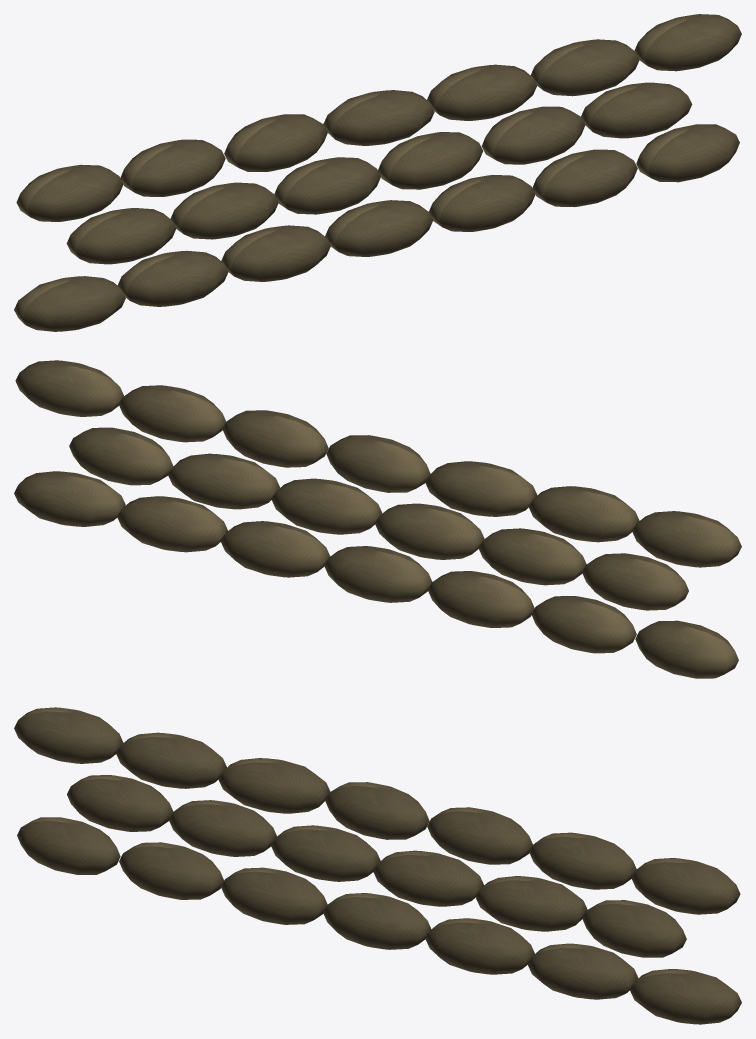
File: sandbags.glb
3 renders of one model, top to bottom at view 1: azimuth 30°, elevation 25°; view 2: azimuth 150°, elevation 25°; view 3: azimuth 330°, elevation 25°, orthographic.
Parts seen in each view (by area): view 1: Bag_0_0, Bag_1_5, Bag_2_3, Bag_0_1, Bag_1_0, Bag_2_4, Bag_0_2, Bag_2_5, Bag_1_1, Bag_0_3, Bag_2_6, Bag_1_2 (+8 smaller); view 2: Bag_1_4, Bag_0_6, Bag_2_2, Bag_1_3, Bag_0_5, Bag_2_1, Bag_2_0, Bag_0_4, Bag_1_2, Bag_2_6, Bag_1_1, Bag_0_3 (+8 smaller); view 3: Bag_0_6, Bag_1_4, Bag_2_2, Bag_2_1, Bag_0_5, Bag_1_3, Bag_0_4, Bag_1_2, Bag_2_0, Bag_2_6, Bag_1_1, Bag_0_3 (+8 smaller).
Boxes of the visible parts, x1,y1,x2,y2 form: Bag_0_0: [14, 276, 125, 331]; Bag_1_5: [581, 82, 692, 138]; Bag_2_3: [323, 90, 434, 145]; Bag_0_1: [117, 250, 228, 306]; Bag_1_0: [66, 208, 176, 264]; Bag_2_4: [427, 64, 536, 120]; Bag_0_2: [221, 225, 330, 281]; Bag_2_5: [530, 39, 639, 96]; Bag_1_1: [170, 182, 278, 239]; Bag_0_3: [325, 200, 433, 256]; Bag_2_6: [634, 14, 741, 71]; Bag_1_2: [274, 157, 380, 214]; Bag_1_4: [168, 453, 279, 509]; Bag_0_6: [14, 471, 125, 526]; Bag_2_2: [425, 461, 536, 516]; Bag_1_3: [272, 478, 382, 534]; Bag_0_5: [117, 496, 227, 552]; Bag_2_1: [529, 486, 639, 542]; Bag_2_0: [632, 511, 741, 567]; Bag_0_4: [221, 521, 330, 577]; Bag_1_2: [375, 503, 484, 559]; Bag_2_6: [15, 360, 123, 416]; Bag_1_1: [478, 528, 586, 585]; Bag_0_3: [324, 546, 432, 602]; Bag_0_6: [630, 969, 741, 1024]; Bag_1_4: [476, 876, 587, 931]; Bag_2_2: [219, 758, 330, 813]; Bag_2_1: [116, 732, 226, 788]; Bag_0_5: [528, 943, 638, 999]; Bag_1_3: [373, 850, 484, 906]; Bag_0_4: [425, 918, 534, 974]; Bag_1_2: [271, 825, 380, 881]; Bag_2_0: [14, 707, 123, 763]; Bag_2_6: [631, 858, 740, 914]; Bag_1_1: [169, 800, 276, 856]; Bag_0_3: [323, 893, 431, 949].
Bounding box in the file's own units: 5.43 × 1.13 × 0.432.
Materials: 1 (1 with a texture image).
